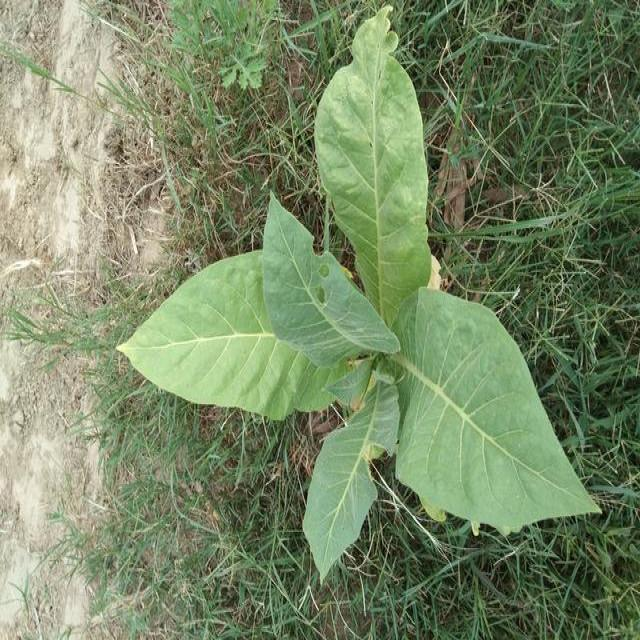crop: (120, 13, 608, 582)
